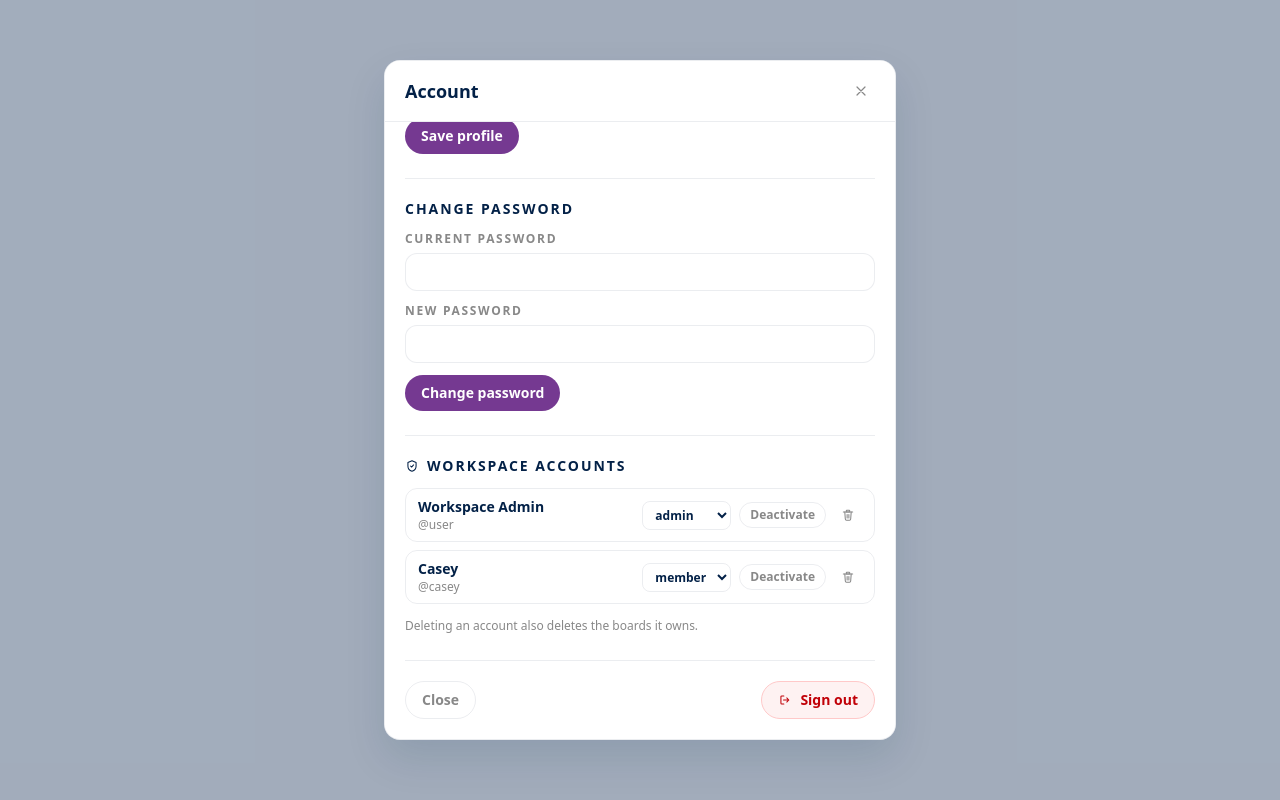
Test: AccountDialog › reports a refused deletion
(page scrolled)
Click the button named "delete casey": [848, 577] box [834, 563, 862, 591]
(page scrolled)
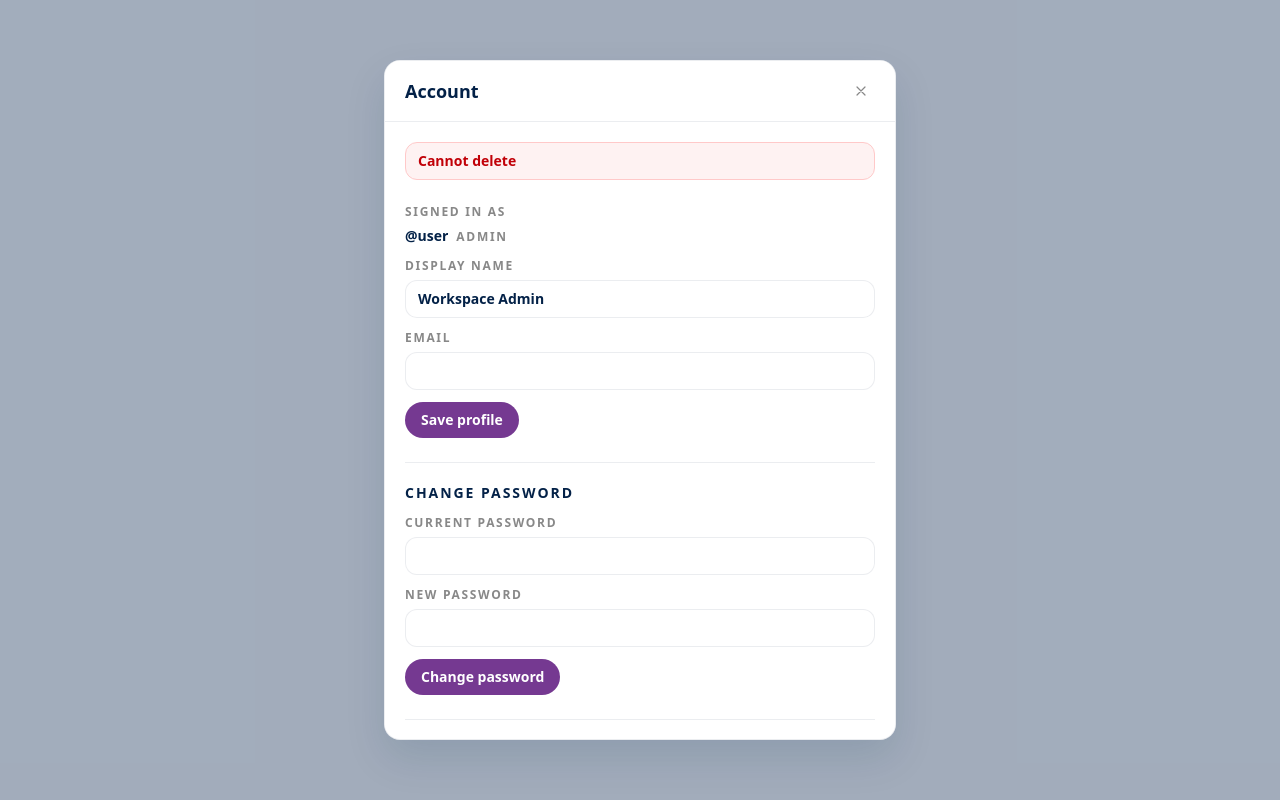
expect the message reads "Cannot delete": met, box [418, 151, 516, 170]
